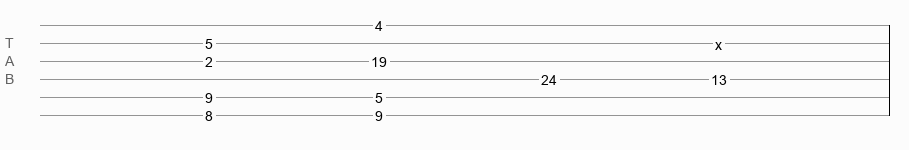13: (711, 72, 727, 82)
19: (371, 54, 387, 64)
2: (205, 54, 213, 64)
24: (541, 72, 557, 82)
4: (375, 18, 383, 28)
5: (205, 36, 213, 46), (375, 90, 383, 100)
8: (205, 108, 213, 118)
9: (205, 90, 213, 100), (375, 108, 383, 118)
x: (715, 37, 722, 45)
